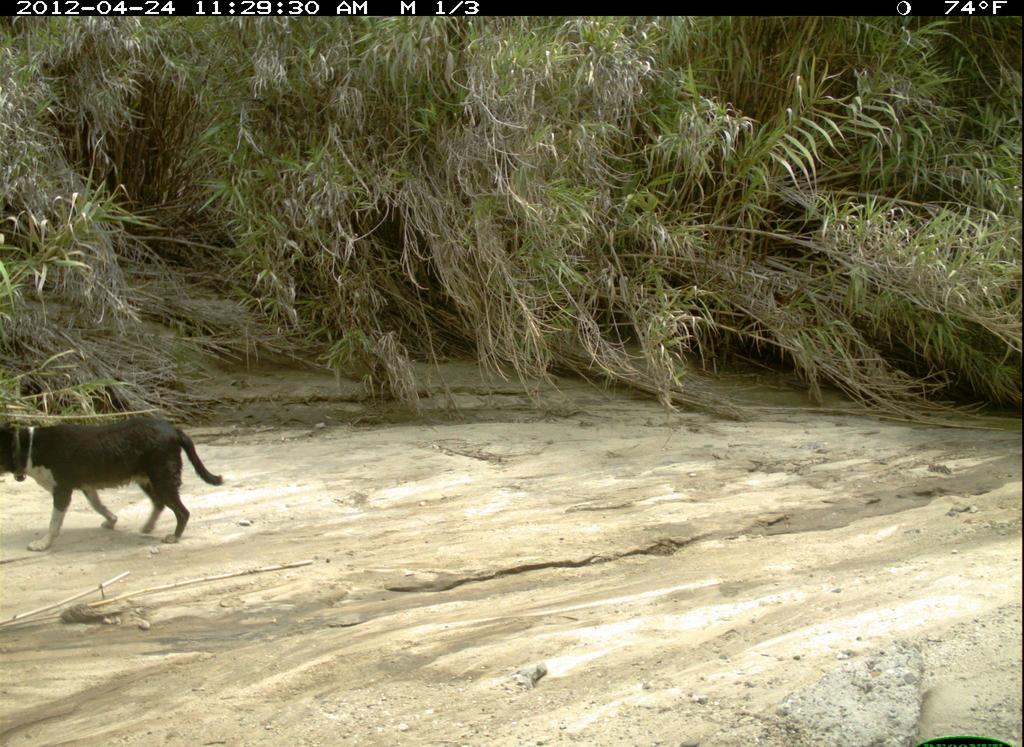dog: (7, 396, 239, 556)
